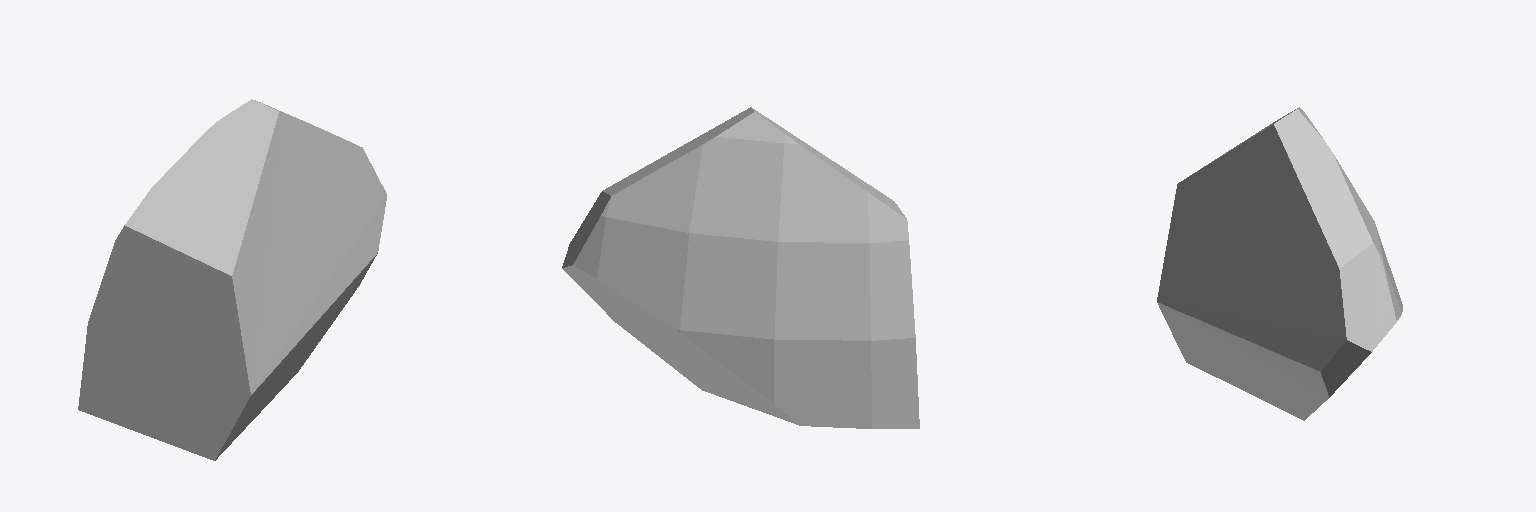
The model's file is Sphere_Cell_Fracture8.obj.
The picture shows the model from 3 angles: view 1: azimuth 30°, elevation 25°; view 2: azimuth 150°, elevation 25°; view 3: azimuth 270°, elevation 25°; orthographic projection.
Bounding box in the file's own units: 0.756 × 0.6544 × 0.4894.